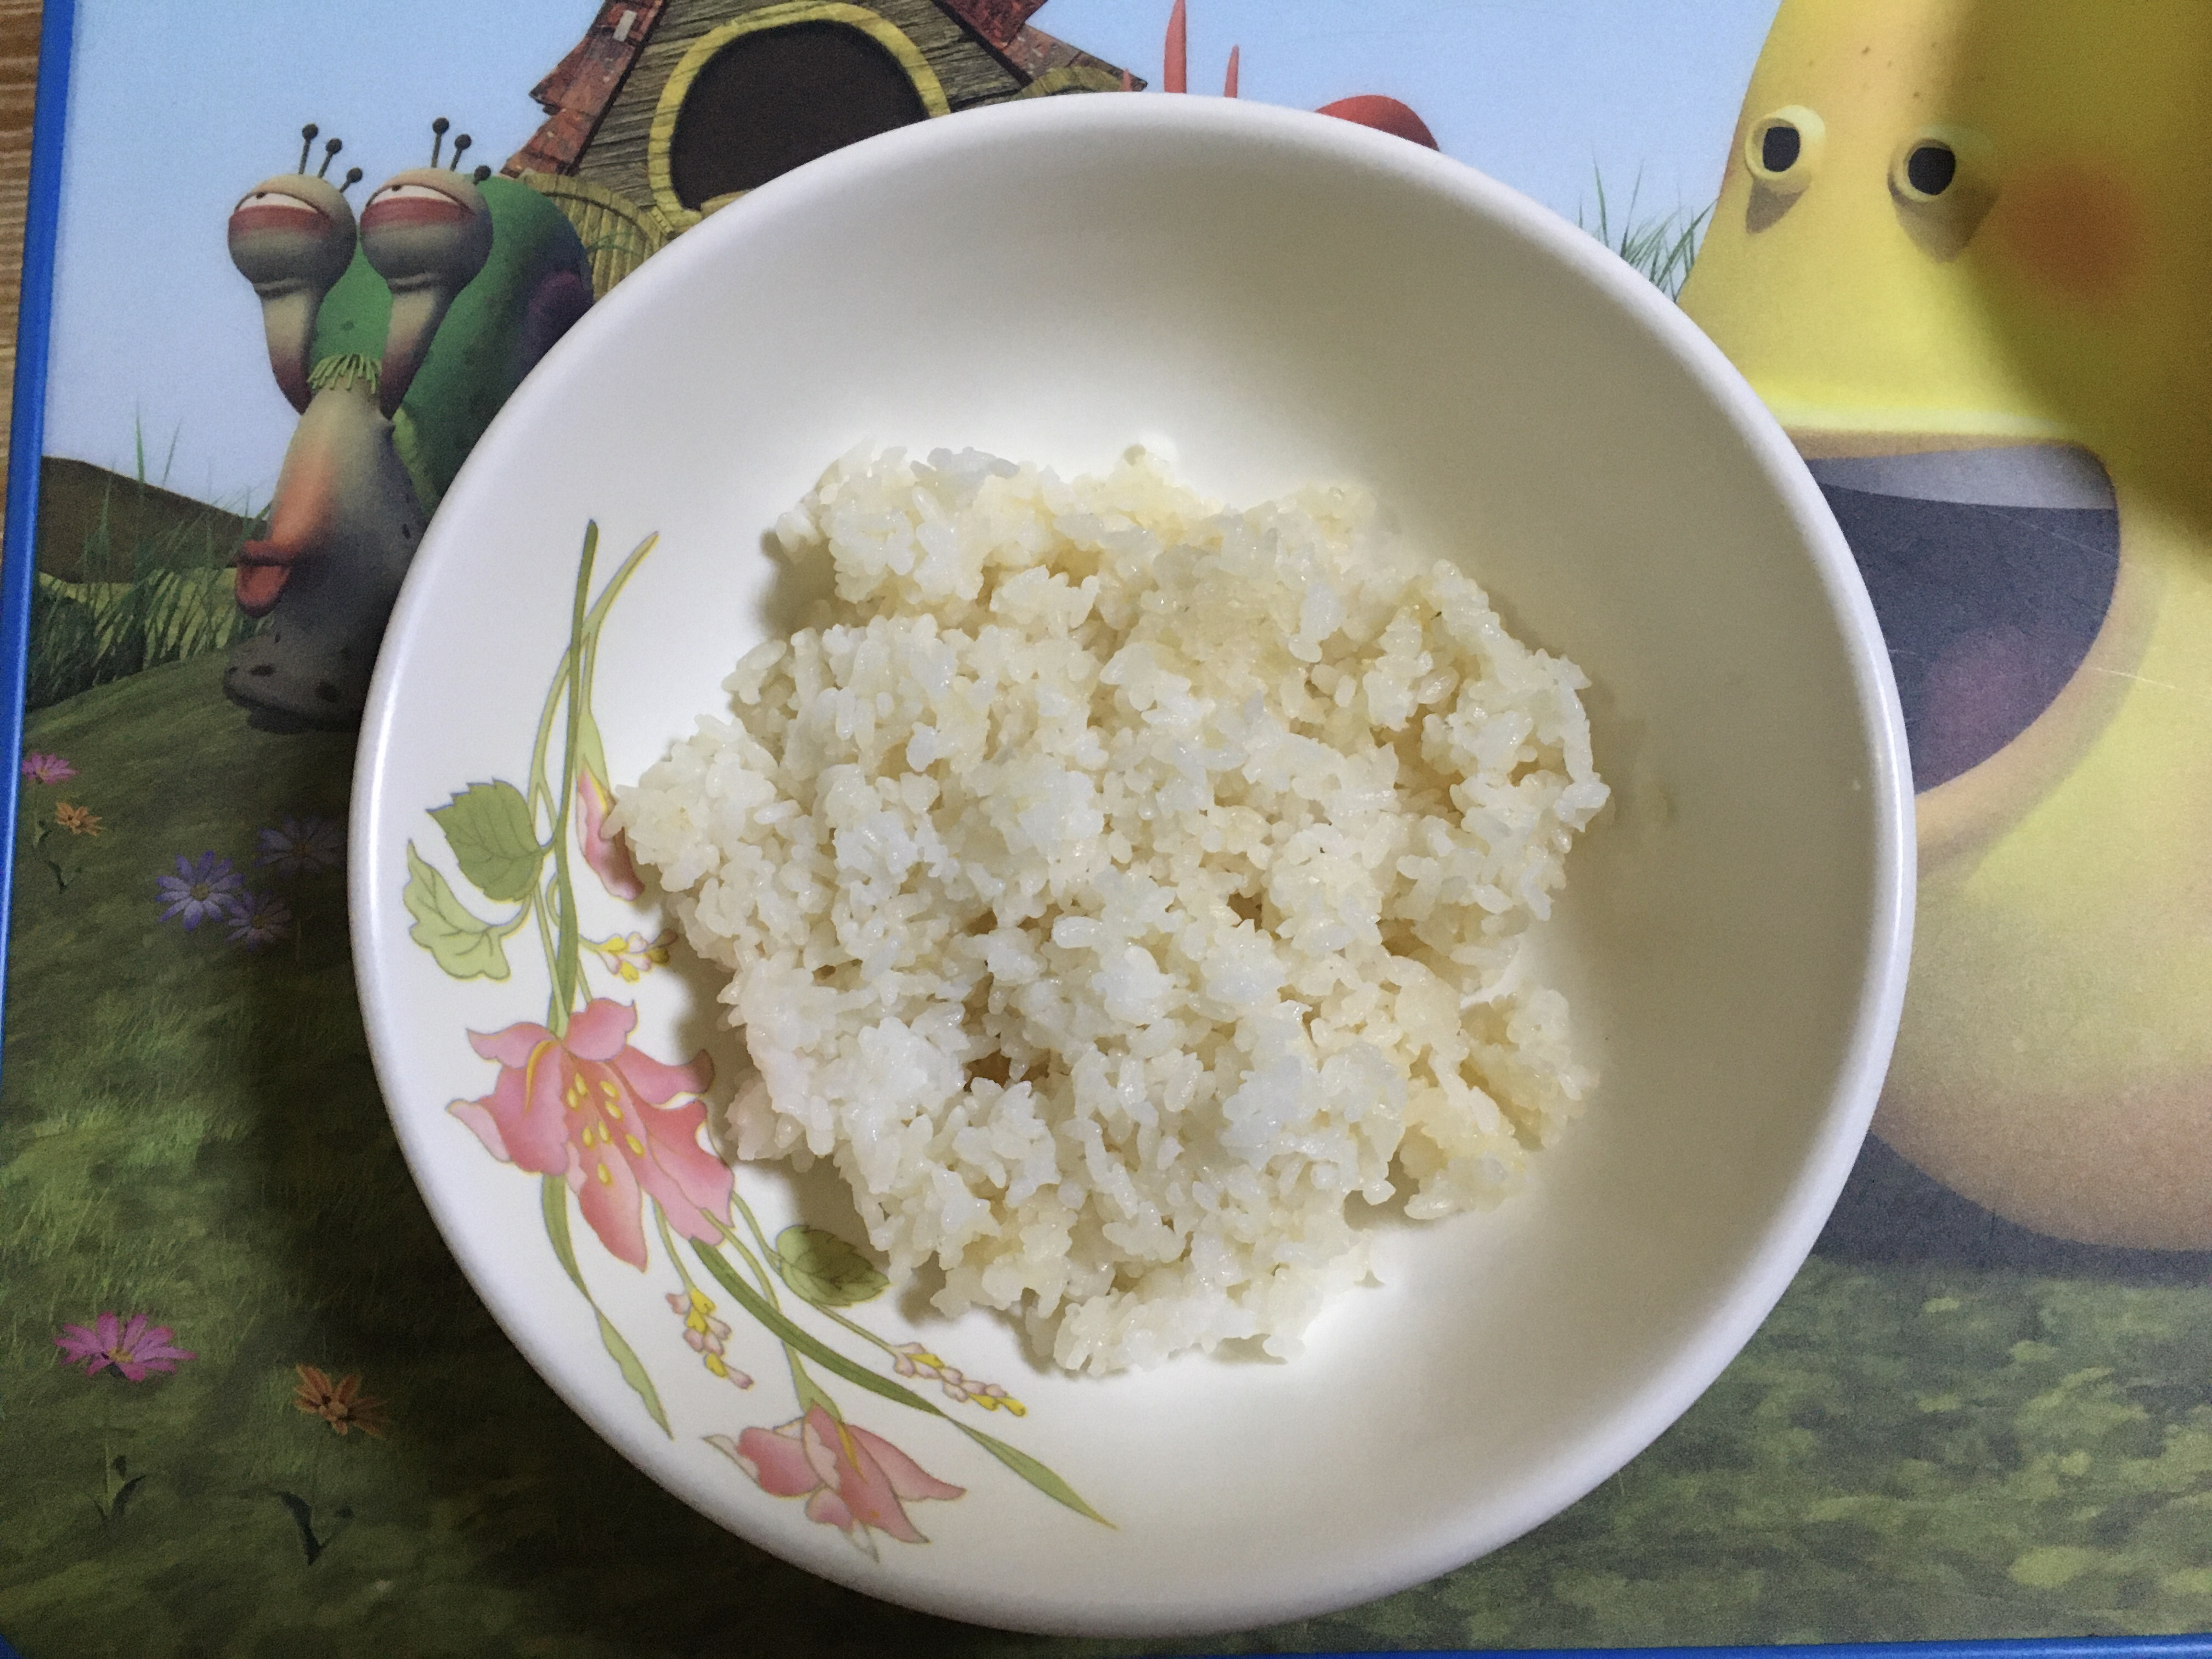01011001: (601, 434, 1608, 1378)
dish: (345, 92, 1918, 1635)
